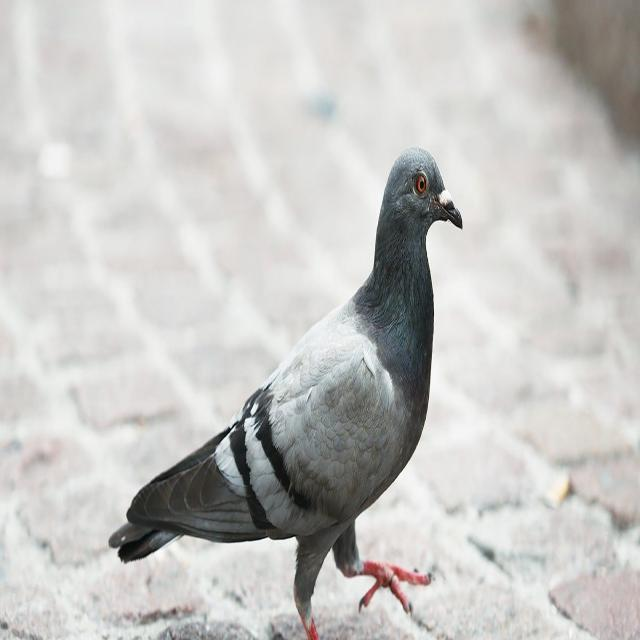Pigeon: (112, 146, 483, 636)
